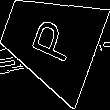P_W: (23, 14, 77, 67)
